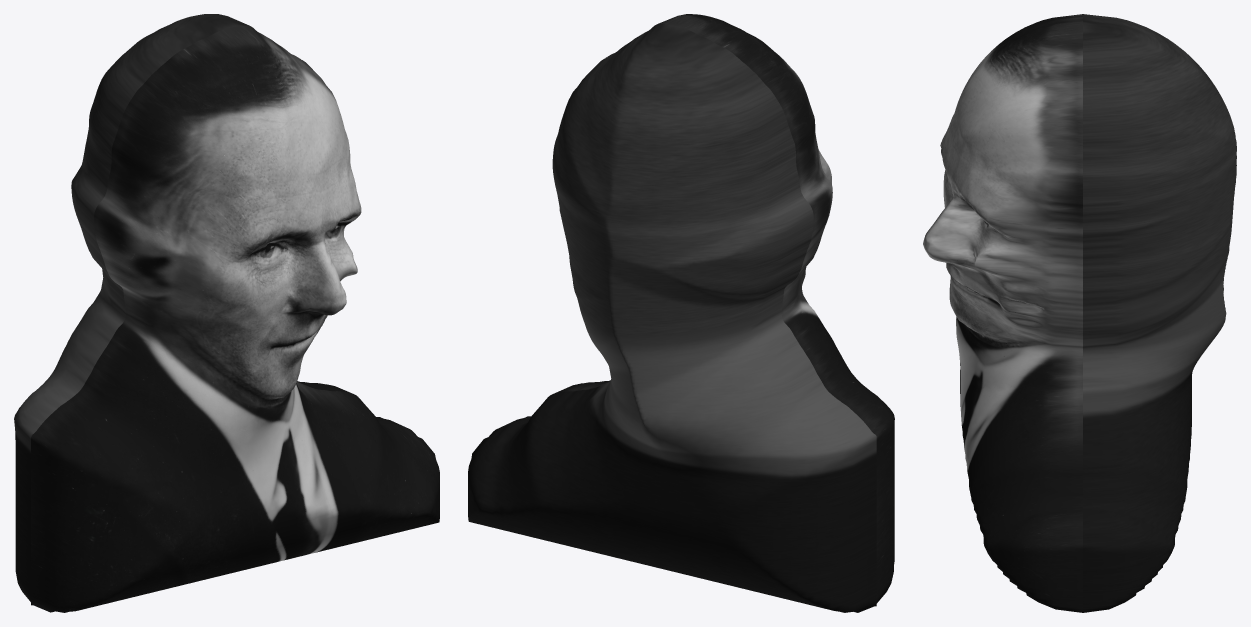
The model's file is coolidge.glb.
The picture shows the model from 3 angles, left to right: view 1: azimuth 30°, elevation 25°; view 2: azimuth 150°, elevation 25°; view 3: azimuth 270°, elevation 25°; orthographic projection. The views are drawn at different scales.
Visible parts, largest first — view 1: CalvinCoolidgeBust; view 2: CalvinCoolidgeBust; view 3: CalvinCoolidgeBust.
Part boxes in pixels (box(x1,y1,x2,y2)): CalvinCoolidgeBust: box(14, 14, 439, 612); CalvinCoolidgeBust: box(468, 14, 894, 612); CalvinCoolidgeBust: box(923, 14, 1236, 612).
Size of the model in its own units: 0.3025 by 0.3913 by 0.2233.
1 material, 1 textured.
